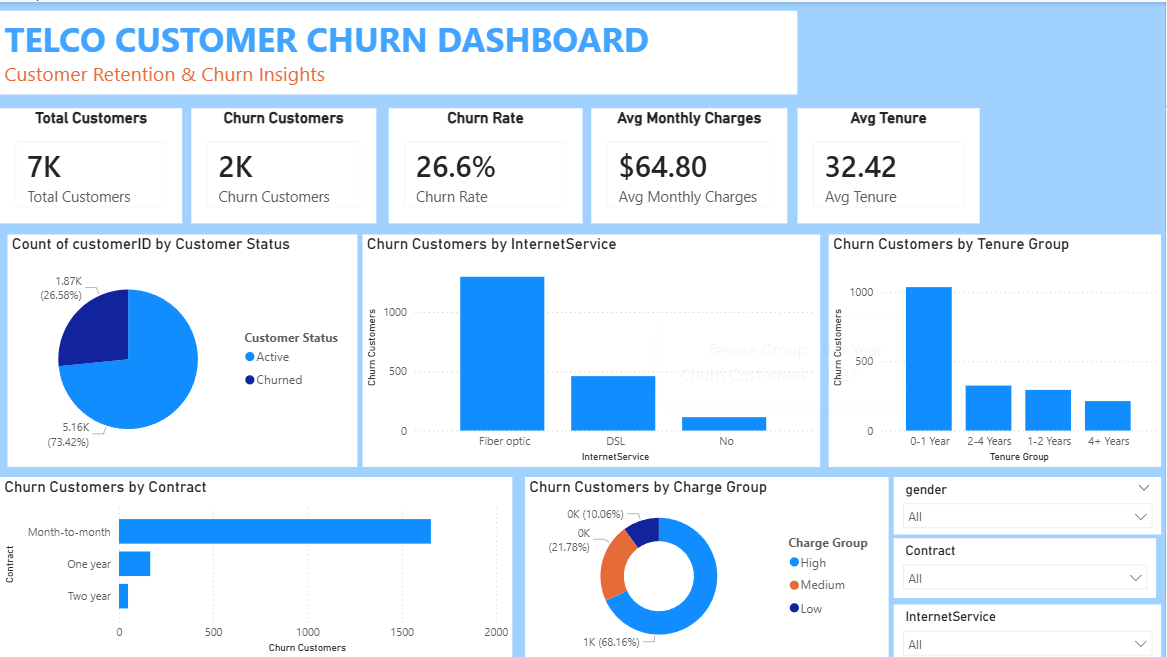

The page's visual inventory and layout, read from the dashboard file:
{"tool":"powerbi","page":{"name":"Page 1","canvas":[1280,720],"ordinal":0},"visuals":[{"type":"cardVisual","title":"Total Customers","fields":{"Data":["Customer.Total Customers"]},"box":[0,116.6,200.3,126.2],"z":0},{"type":"cardVisual","title":"Churn Customers","fields":{"Data":["Customer.Churn Customers"]},"box":[209.9,116.6,203.1,126.2],"z":1000},{"type":"cardVisual","title":"Churn Rate","fields":{"Data":["Customer.Churn Rate"]},"box":[426.8,116.6,212.7,126.2],"z":2000},{"type":"cardVisual","title":"Avg Monthly Charges","fields":{"Data":["Customer.Avg Monthly Charges"]},"box":[649.1,116.6,215.4,126.2],"z":3000},{"type":"cardVisual","title":"Avg Tenure","fields":{"Data":["Customer.Avg Tenure"]},"box":[875.5,116.6,200.3,126.2],"z":4000},{"type":"pieChart","fields":{"Category":["Customer.Customer Status"],"Y":["CountNonNull(Customer.customerID)"]},"box":[8.2,255.2,384.2,255.2],"z":5000},{"type":"clusteredBarChart","fields":{"Category":["Customer.Contract"],"Y":["Customer.Churn Customers"]},"box":[0,521.4,562.6,199],"z":6000},{"type":"clusteredColumnChart","fields":{"Category":["Customer.InternetService"],"Y":["Customer.Churn Customers"]},"box":[397.9,255.2,502.2,255.2],"z":6001},{"type":"donutChart","fields":{"Category":["Customer.Charge Group"],"Y":["Customer.Churn Customers"]},"box":[576.3,521.4,399.3,199],"z":6002},{"type":"clusteredColumnChart","fields":{"Category":["Customer.Tenure Group"],"Y":["Customer.Churn Customers"]},"box":[909.8,255.2,365,255.2],"z":6003},{"type":"slicer","fields":{"Values":["Customer.gender"]},"box":[981.1,521.4,293.7,63.1],"z":6004},{"type":"slicer","fields":{"Values":["Customer.Contract"]},"box":[981.1,588.7,288.2,65.9],"z":6005},{"type":"slicer","fields":{"Values":["Customer.InternetService"]},"box":[981.1,661.4,293.7,59],"z":6006},{"type":"textbox","box":[0,9.6,875.5,91.9],"z":6007}]}

Visuals, with their boxes in screenshot pixels (x1, y1, x2, y2), scaled from the page's 1280x720 canvas onto the 1167x657 screenshot:
"Total Customers" cardVisual: 0,106,183,222
"Churn Customers" cardVisual: 191,106,377,222
"Churn Rate" cardVisual: 389,106,583,222
"Avg Monthly Charges" cardVisual: 592,106,788,222
"Avg Tenure" cardVisual: 798,106,981,222
pieChart - Customer.Customer Status x CountNonNull(Customer.customerID): 7,233,358,466
clusteredBarChart - Customer.Contract x Customer.Churn Customers: 0,476,513,656
clusteredColumnChart - Customer.InternetService x Customer.Churn Customers: 363,233,821,466
donutChart - Customer.Charge Group x Customer.Churn Customers: 525,476,889,656
clusteredColumnChart - Customer.Tenure Group x Customer.Churn Customers: 829,233,1162,466
slicer - Customer.gender: 894,476,1162,533
slicer - Customer.Contract: 894,537,1157,597
slicer - Customer.InternetService: 894,604,1162,656
textbox: 0,9,798,93
